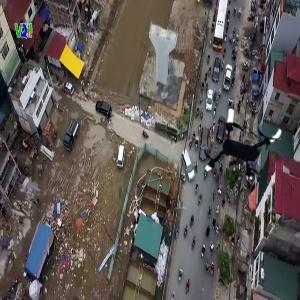drone: (198, 99, 287, 188)
